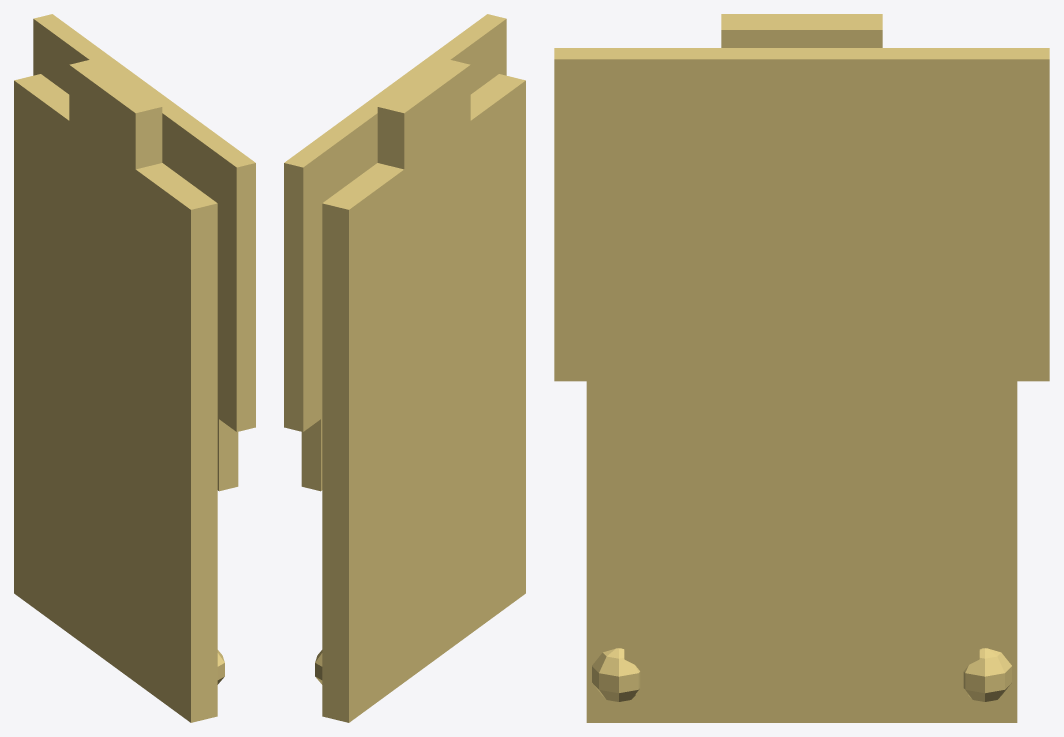
Rendered from aldrich_veiled_mirror.fbx.
The picture shows the model from 3 angles, left to right: view 1: azimuth 30°, elevation 25°; view 2: azimuth 150°, elevation 25°; view 3: azimuth 270°, elevation 25°; orthographic projection. The views are drawn at different scales.
Visible parts, largest first — view 1: aldrich_veiled_mirror; view 2: aldrich_veiled_mirror; view 3: aldrich_veiled_mirror.
Part boxes in pixels (<box>): aldrich_veiled_mirror: <box>14,14,255,722</box>; aldrich_veiled_mirror: <box>284,14,525,722</box>; aldrich_veiled_mirror: <box>554,14,1049,722</box>.
Size of the model in its own units: 0.135 by 1.42 by 0.92.
